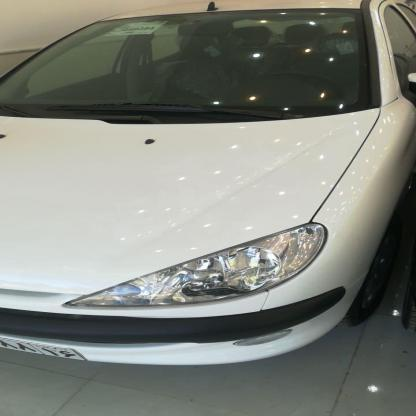Car: (0, 0, 416, 370)
